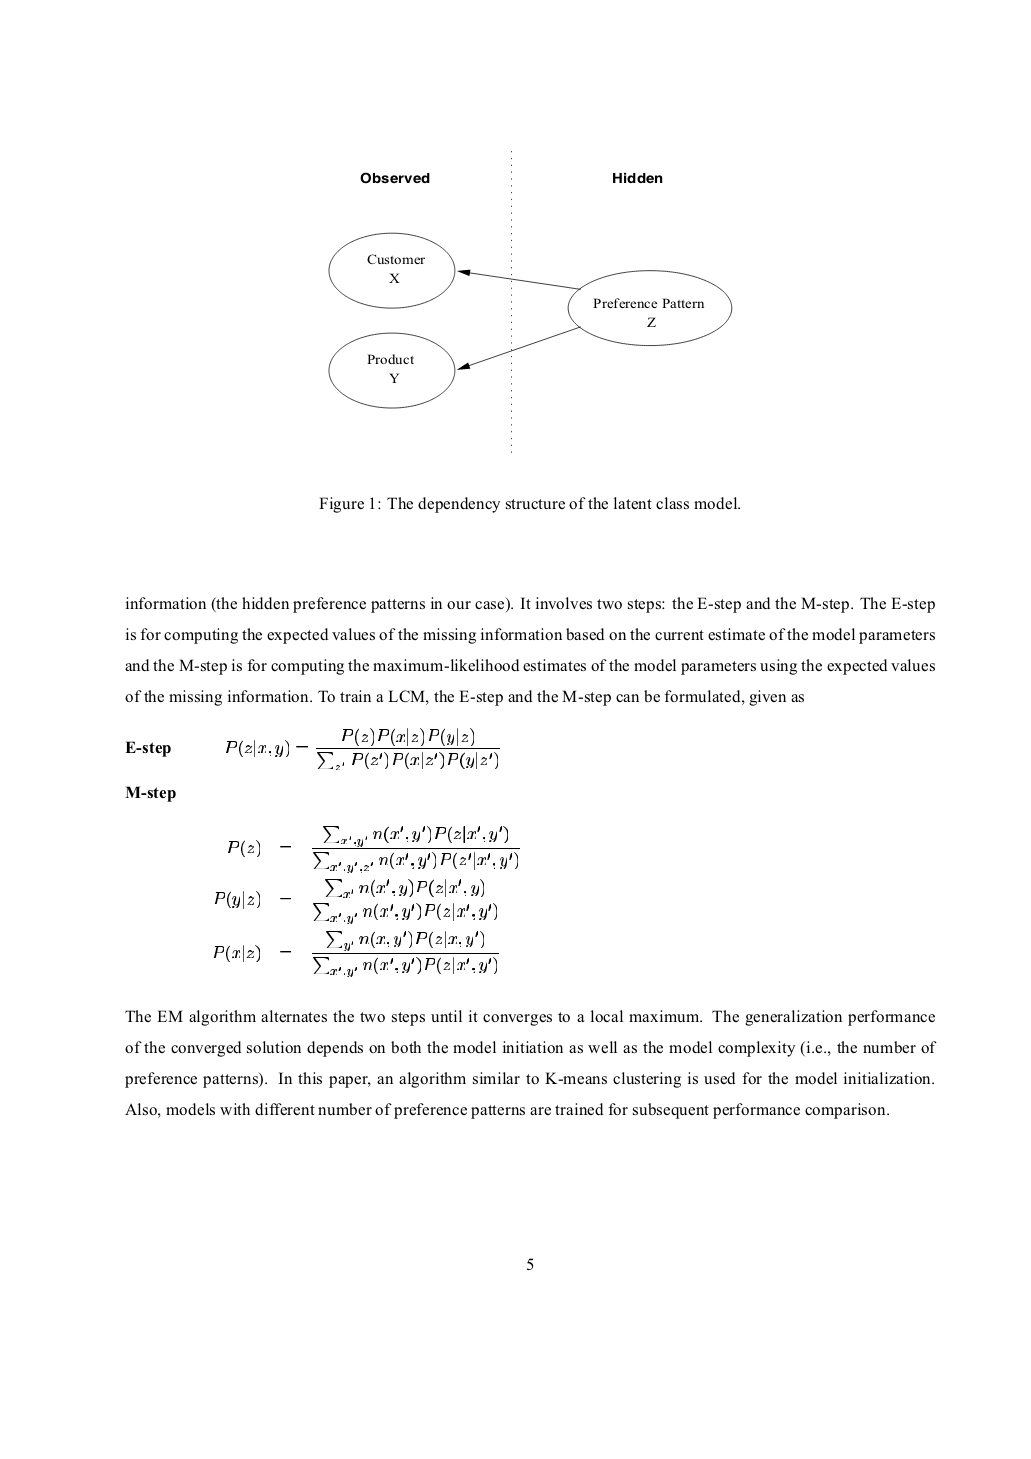figure: (328, 151, 732, 452)
formula: (125, 727, 499, 770), (228, 825, 519, 873), (213, 930, 498, 977), (214, 878, 497, 924)
